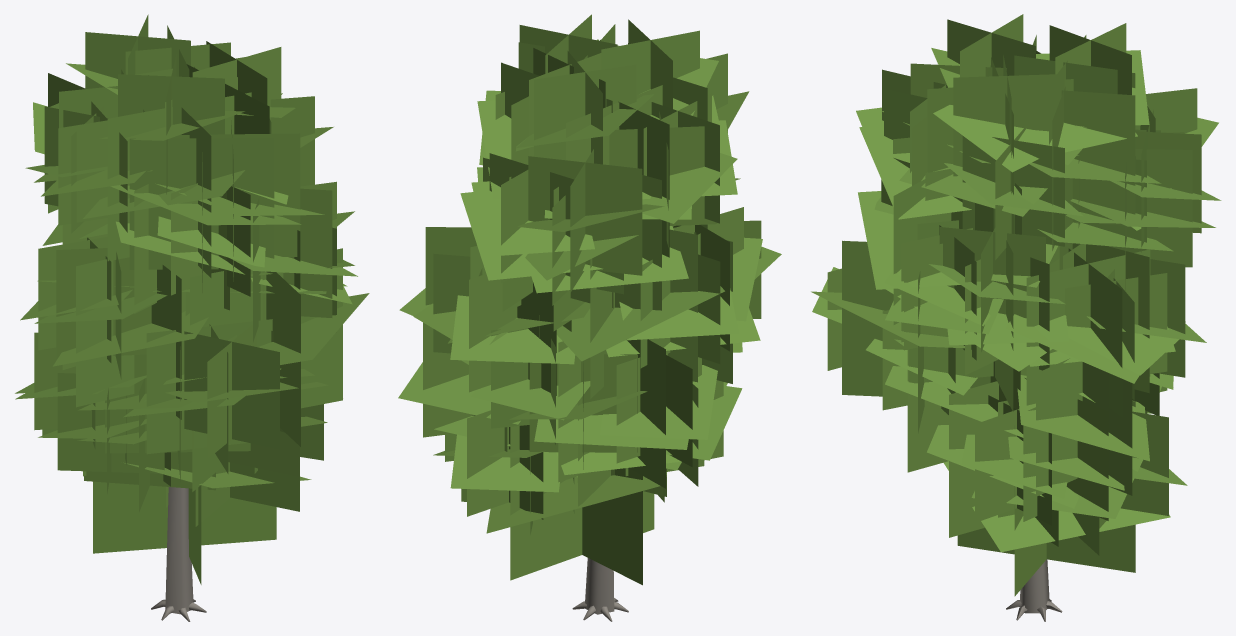
The model's file is tilleul_3_f2_loin.glb.
3 views of the same model, side by side, from view 1: azimuth 30°, elevation 25°; view 2: azimuth 150°, elevation 25°; view 3: azimuth 270°, elevation 25° (orthographic).
Parts seen in each view (by area): view 1: Tilleul_T3_f2_Leger_Loin; view 2: Tilleul_T3_f2_Leger_Loin; view 3: Tilleul_T3_f2_Leger_Loin.
Part boxes in pixels (x1=…): Tilleul_T3_f2_Leger_Loin: x1=15, y1=14, x2=369, y2=621; Tilleul_T3_f2_Leger_Loin: x1=398, y1=14, x2=781, y2=621; Tilleul_T3_f2_Leger_Loin: x1=811, y1=14, x2=1221, y2=621.
Size of the model in its own units: 8.37 by 14.95 by 9.88.
